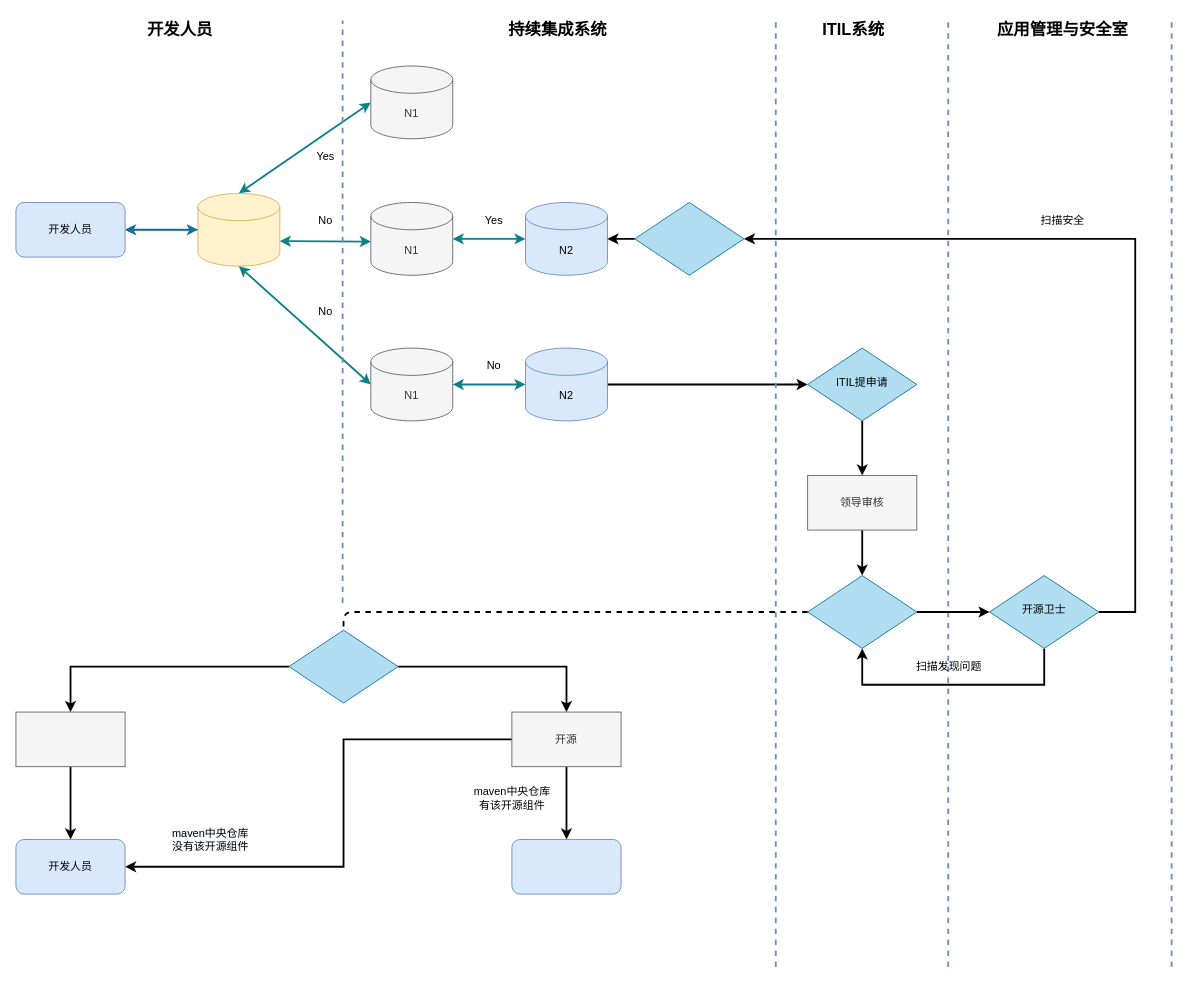
The diagram is 1189 pixels wide and 984 high, and some of its shapes have lost their labels. Here are the shapes that lost their labels. From the top down, the centre of each, then its label:
the point at 238,229: 本地仓库
the point at 689,238: 入库N2
the point at 862,611: 下载组件
the point at 343,666: 下载人员
the point at 70,739: 非开源
the point at 566,866: 持续集成 相关人员
